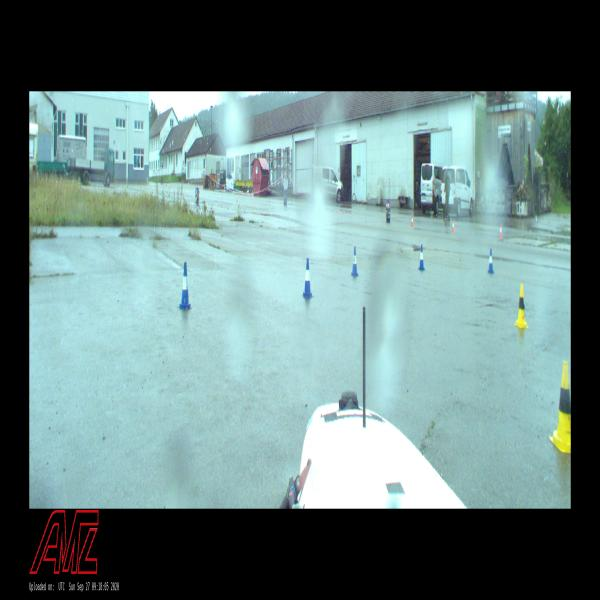blue_cone: (178, 263, 192, 312), (302, 257, 314, 298), (351, 246, 358, 278), (418, 243, 425, 272), (488, 247, 494, 275)
orange_cone: (499, 224, 503, 240), (411, 214, 414, 228), (452, 220, 454, 233)
yellow_cone: (549, 362, 570, 451), (514, 283, 529, 328)
